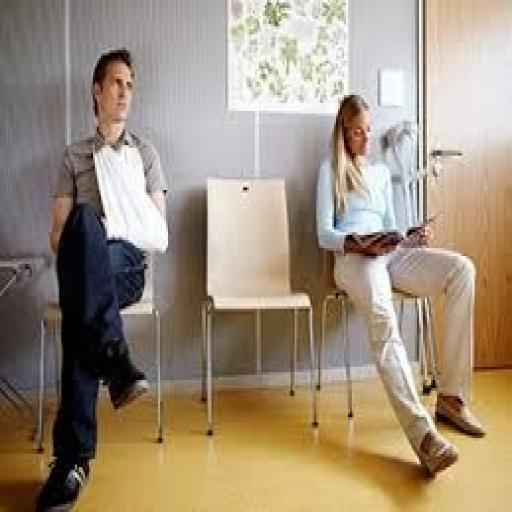sitting: (30, 42, 488, 507), (312, 90, 486, 478), (32, 45, 170, 509)
